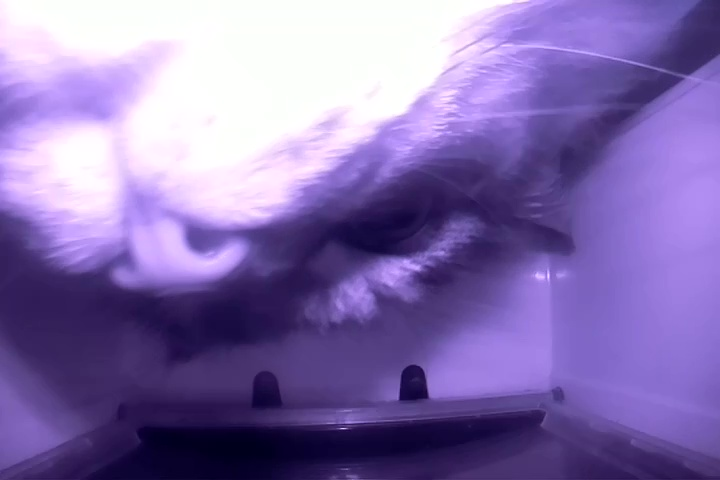Snout: (4, 36, 282, 312)
